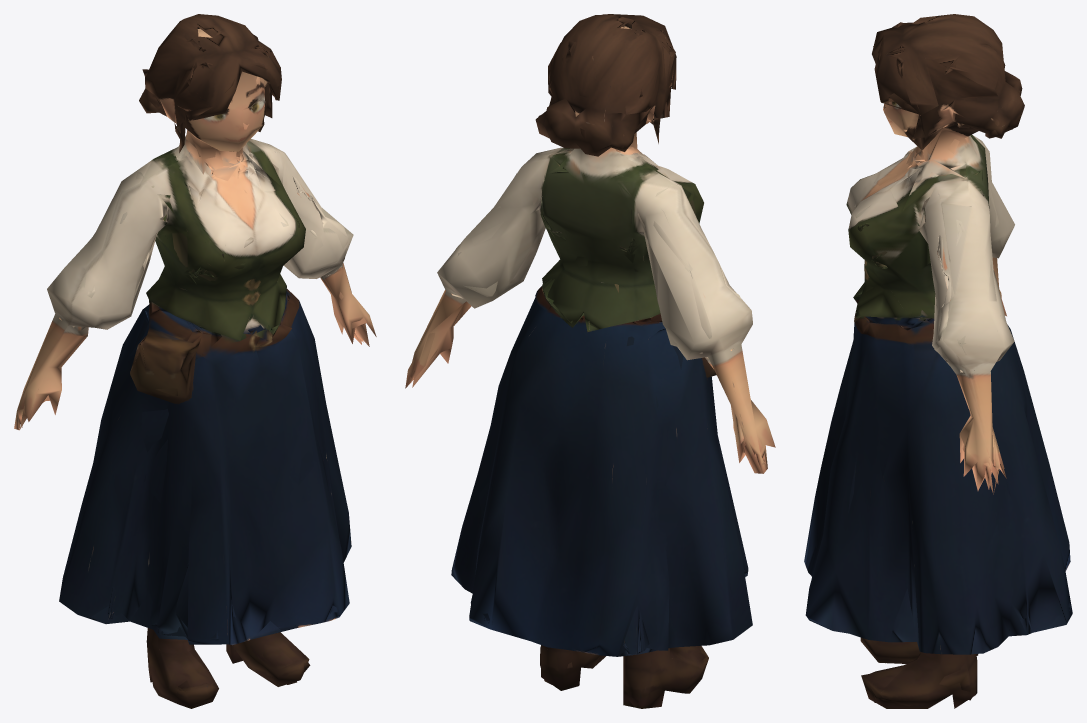
File: item_merchant_surface.glb
3 views of the same model, side by side, from view 1: azimuth 30°, elevation 25°; view 2: azimuth 150°, elevation 25°; view 3: azimuth 270°, elevation 25° (orthographic). The views are drawn at different scales.
Visible parts, largest first — view 1: ItemMerchantBody; view 2: ItemMerchantBody; view 3: ItemMerchantBody.
Boxes of the visible parts, <box> form: ItemMerchantBody: <box>14,14,376,708</box>; ItemMerchantBody: <box>405,14,775,708</box>; ItemMerchantBody: <box>804,14,1072,708</box>.
Size of the model in its own units: 0.9237 by 1.65 by 0.6056.
Materials: 1 (1 with a texture image).
